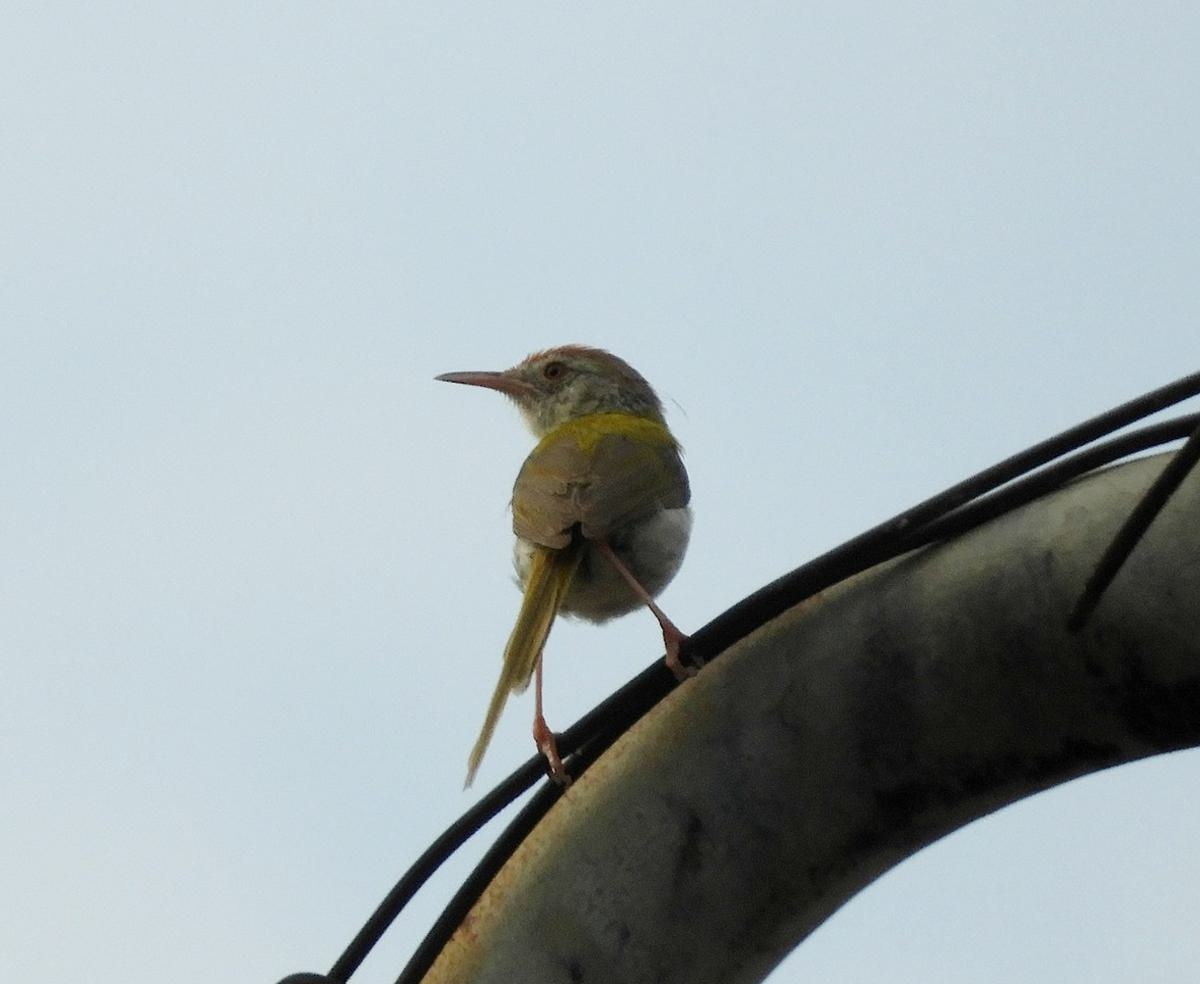tailorbird: (433, 303, 709, 824)
